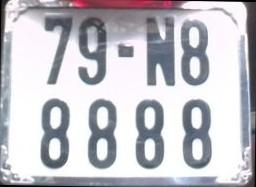-: (119, 46, 133, 58)
7: (46, 16, 71, 83)
8: (182, 100, 211, 167), (88, 100, 116, 169), (136, 100, 163, 169), (181, 20, 209, 85), (42, 99, 68, 167)
9: (79, 18, 106, 84)
N: (147, 18, 175, 86)
